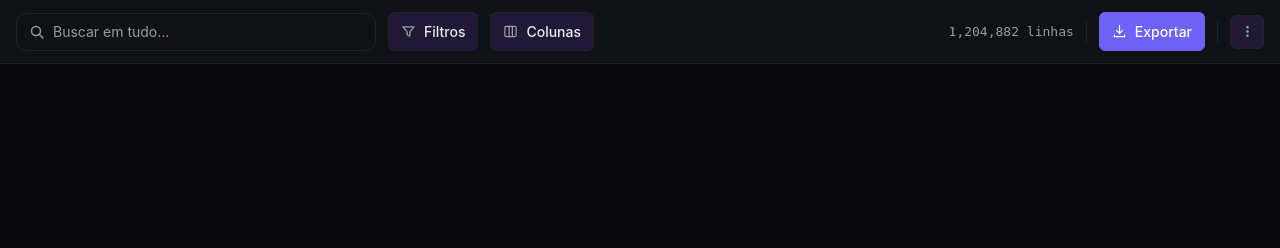
Test case: ViewerToolbar › filtra as colunas do menu "Colunas" pelo termo digitado na busca do menu
The image size is (1280, 248).
Click the button with class "dropdown__trigger" showing "Colunas" at (542, 32), box [490,12,594,51]
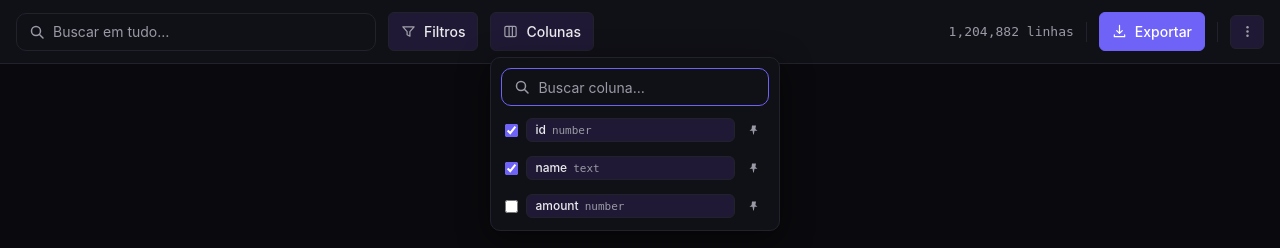
Type "amo" into the search field with placeholder "Buscar coluna…" at (647, 87), box [538,69,756,105]
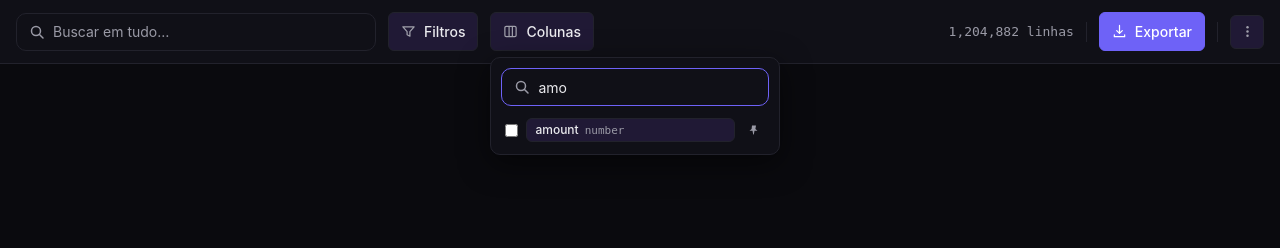
Result: the element with class "columns-menu__chip" shows "amount" at [535,122,579,137]
Result: the number of elements with class "columns-menu__item" is 1 at [497,112,773,148]
